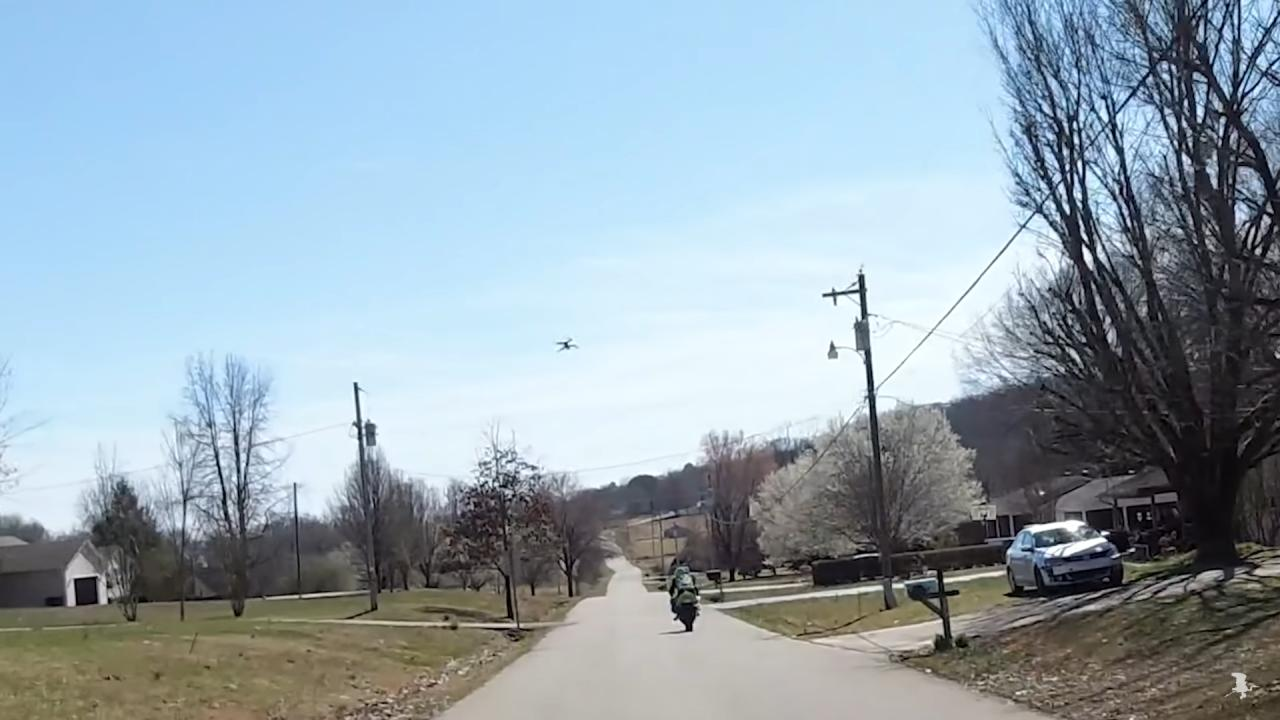Drone: (550, 331, 582, 358)
